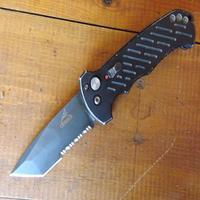knife: (5, 13, 185, 182)
